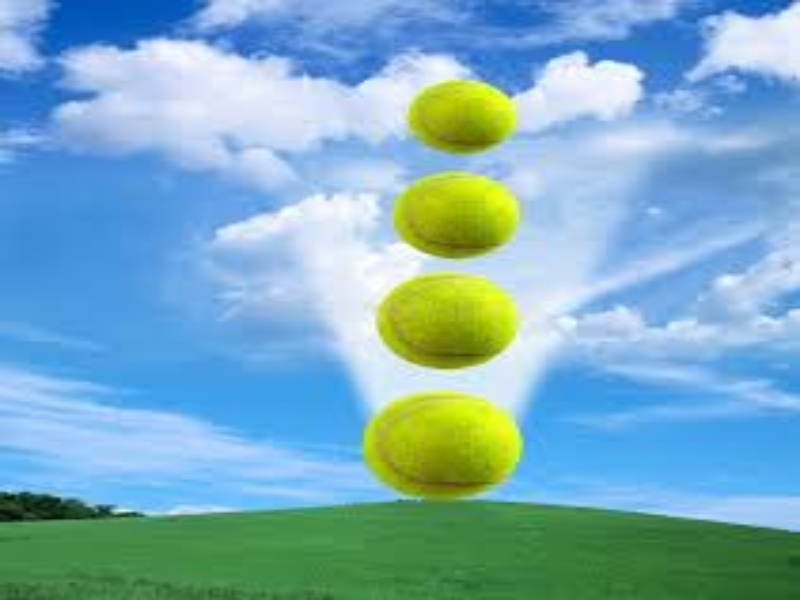tennis ball: (372, 269, 537, 373), (380, 394, 519, 503), (395, 166, 527, 255), (400, 77, 521, 156)
